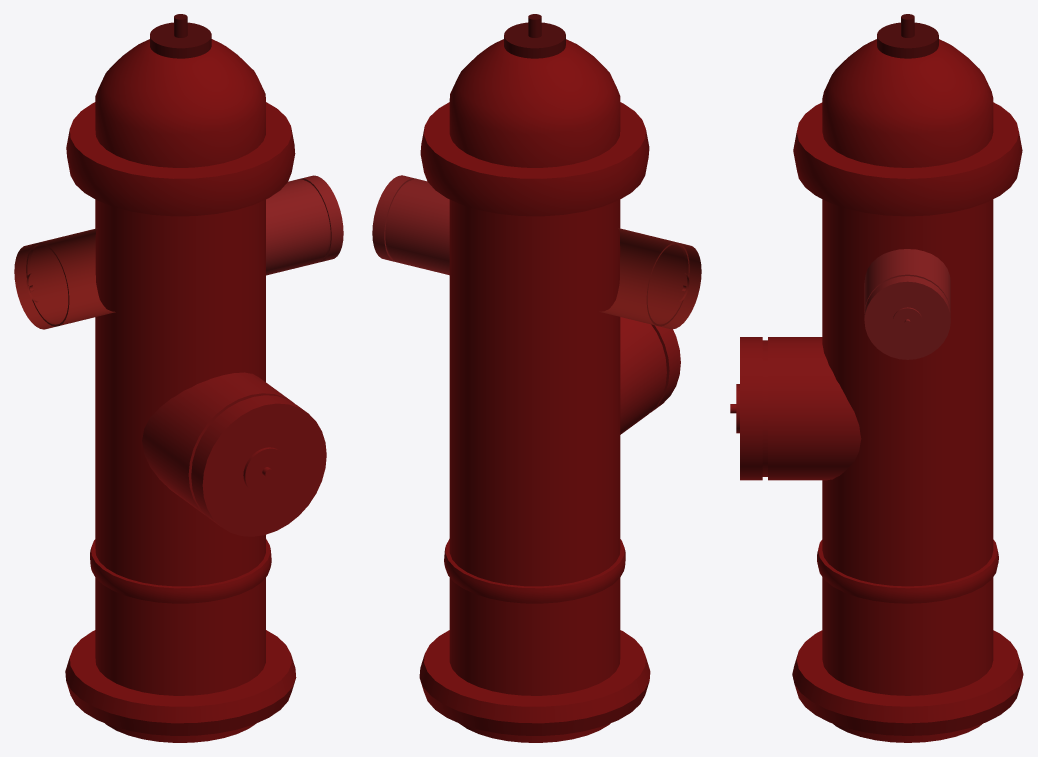
Rendered from Hydrant.fbx.
The picture shows the model from 3 angles, left to right: view 1: azimuth 30°, elevation 25°; view 2: azimuth 150°, elevation 25°; view 3: azimuth 270°, elevation 25°; orthographic projection.
Visible parts, largest first — view 1: Cylinder; view 2: Cylinder; view 3: Cylinder.
Boxes of the visible parts, x1,y1,x2,y2 form: Cylinder: (14,14,343,742); Cylinder: (372,14,701,742); Cylinder: (730,14,1023,742).
Bounding box in the file's own units: 164 × 365 × 141.
